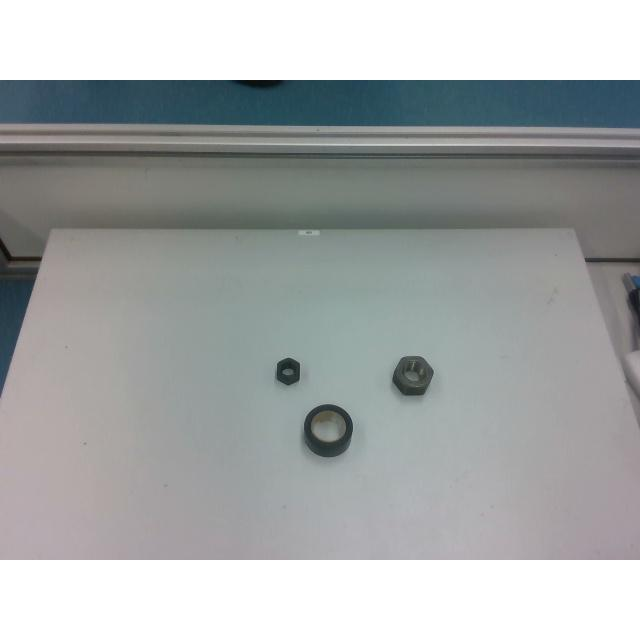M20: (276, 358, 302, 387)
M30: (392, 354, 432, 394)
